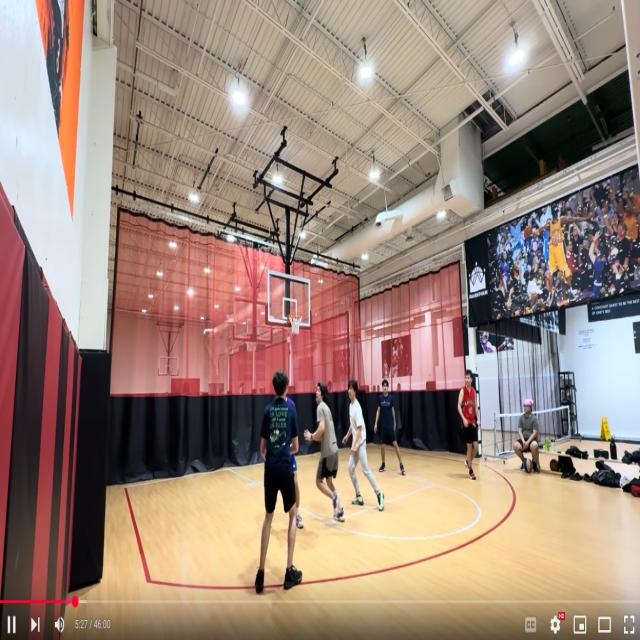Basketball Rim: (288, 312, 302, 334)
Player: (254, 371, 302, 594), (304, 382, 345, 522), (343, 381, 384, 511), (374, 380, 406, 474), (458, 369, 480, 480), (514, 399, 539, 473)
